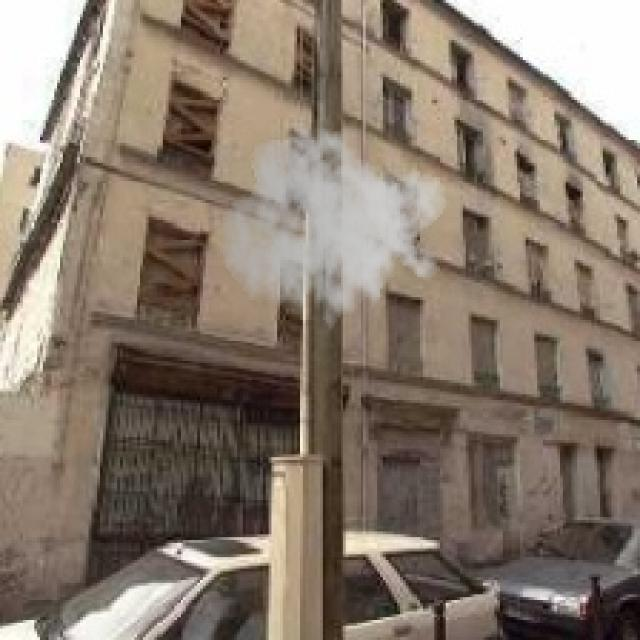smoke: (220, 114, 449, 340)
